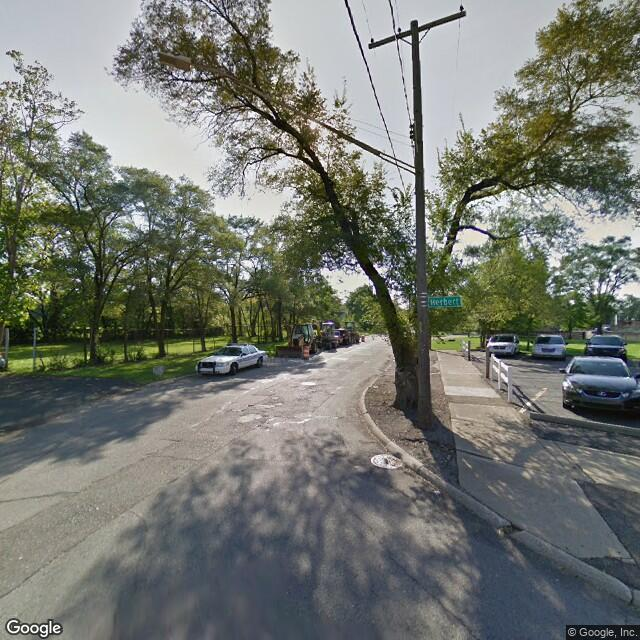litter: (430, 487, 440, 496)
